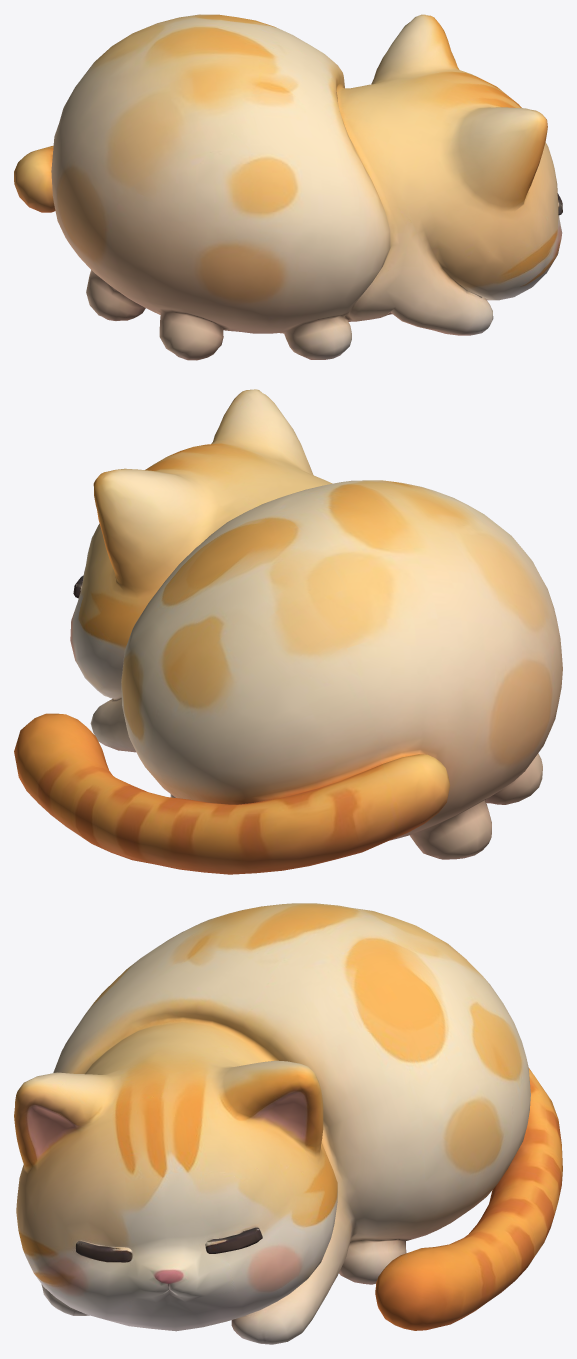
File: cat.glb
The picture shows the model from 3 angles, top to bottom: view 1: azimuth 30°, elevation 25°; view 2: azimuth 150°, elevation 25°; view 3: azimuth 270°, elevation 25°; orthographic projection. The views are drawn at different scales.
Parts seen in each view (by area): view 1: tripo_node_73c5952c-f8d9-43b2-b40f-6e846ffb845d; view 2: tripo_node_73c5952c-f8d9-43b2-b40f-6e846ffb845d; view 3: tripo_node_73c5952c-f8d9-43b2-b40f-6e846ffb845d.
Boxes of the visible parts, x1=… form: tripo_node_73c5952c-f8d9-43b2-b40f-6e846ffb845d: x1=14, y1=14, x2=562, y2=360; tripo_node_73c5952c-f8d9-43b2-b40f-6e846ffb845d: x1=14, y1=389, x2=562, y2=874; tripo_node_73c5952c-f8d9-43b2-b40f-6e846ffb845d: x1=14, y1=903, x2=562, y2=1344.
Bounding box in the file's own units: 0.998 × 0.5996 × 0.9707.
1 material, 1 textured.
